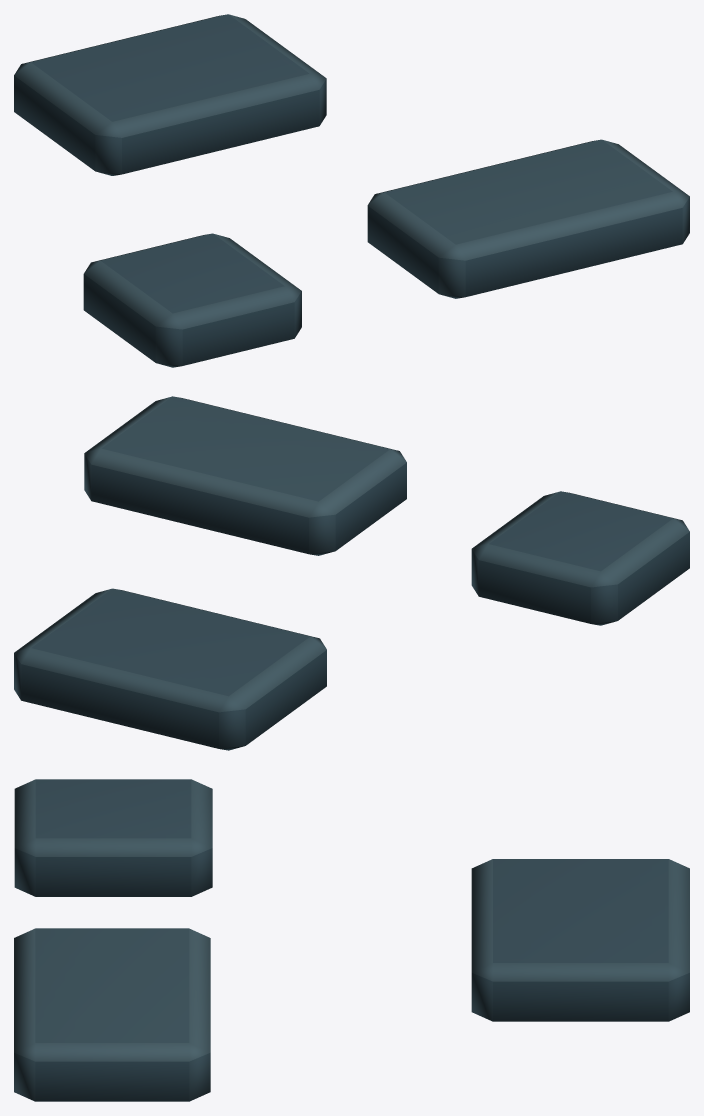
Rendered from stone_path_11.fbx.
3 views of the same model, one above another, from view 1: azimuth 30°, elevation 25°; view 2: azimuth 150°, elevation 25°; view 3: azimuth 270°, elevation 25° (orthographic). The views are drawn at different scales.
Visible parts, largest first — view 1: stone_path_11; view 2: stone_path_11; view 3: stone_path_11.
Boxes of the visible parts, x1,y1,x2,y2 form: stone_path_11: (14, 14, 689, 367); stone_path_11: (14, 396, 689, 750); stone_path_11: (14, 779, 689, 1101).
Size of the model in its own units: 188 by 18.28 by 191.
